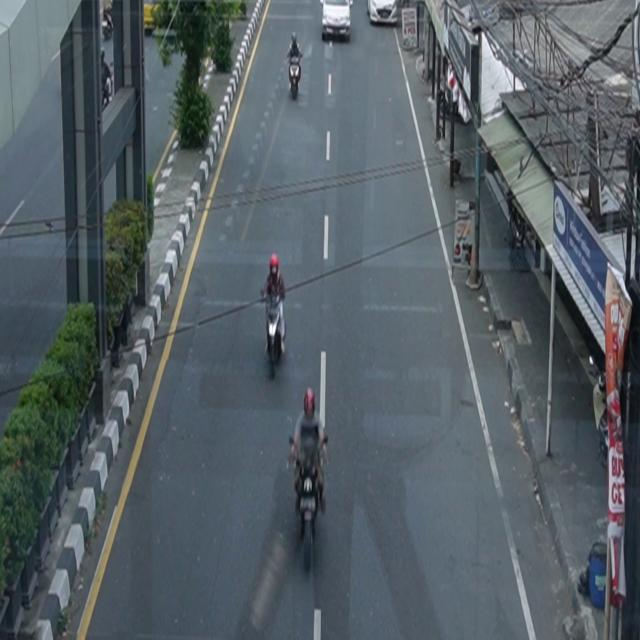car: (322, 1, 352, 42), (367, 1, 398, 26)
